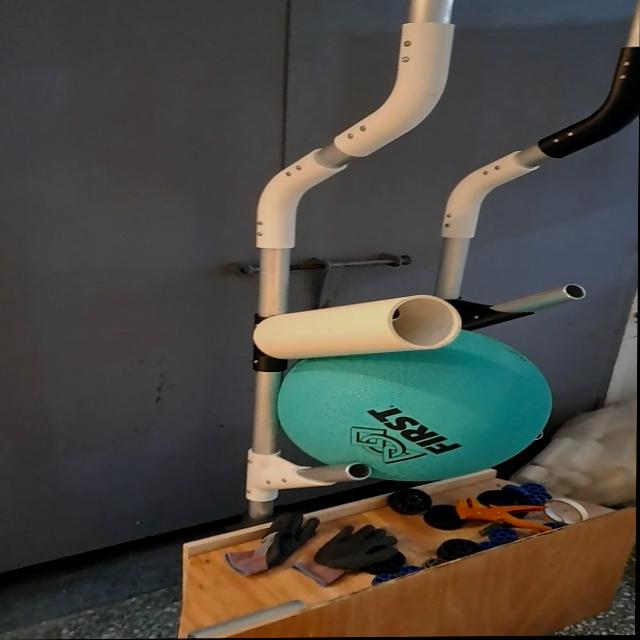ALGAE: (279, 328, 561, 484)
CORAL: (251, 295, 462, 364)
